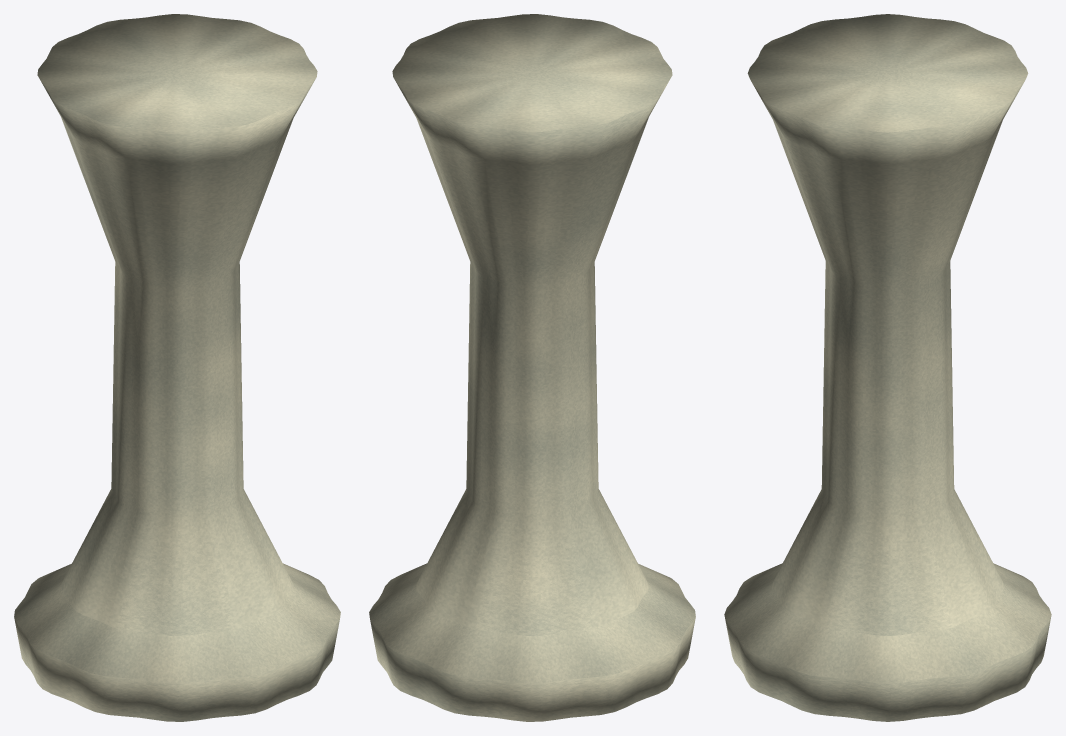
Rendered from Pedestal.fbx.
3 views of the same model, side by side, from view 1: azimuth 30°, elevation 25°; view 2: azimuth 150°, elevation 25°; view 3: azimuth 270°, elevation 25° (orthographic).
Parts seen in each view (by area): view 1: Pedestal_Porcelain; view 2: Pedestal_Porcelain; view 3: Pedestal_Porcelain.
Part boxes in pixels (left/top/right/bottom): Pedestal_Porcelain: left=14, top=14, right=340, bottom=721; Pedestal_Porcelain: left=369, top=14, right=695, bottom=721; Pedestal_Porcelain: left=724, top=14, right=1051, bottom=721.
Size of the model in its own units: 42.76 by 84 by 42.76.
